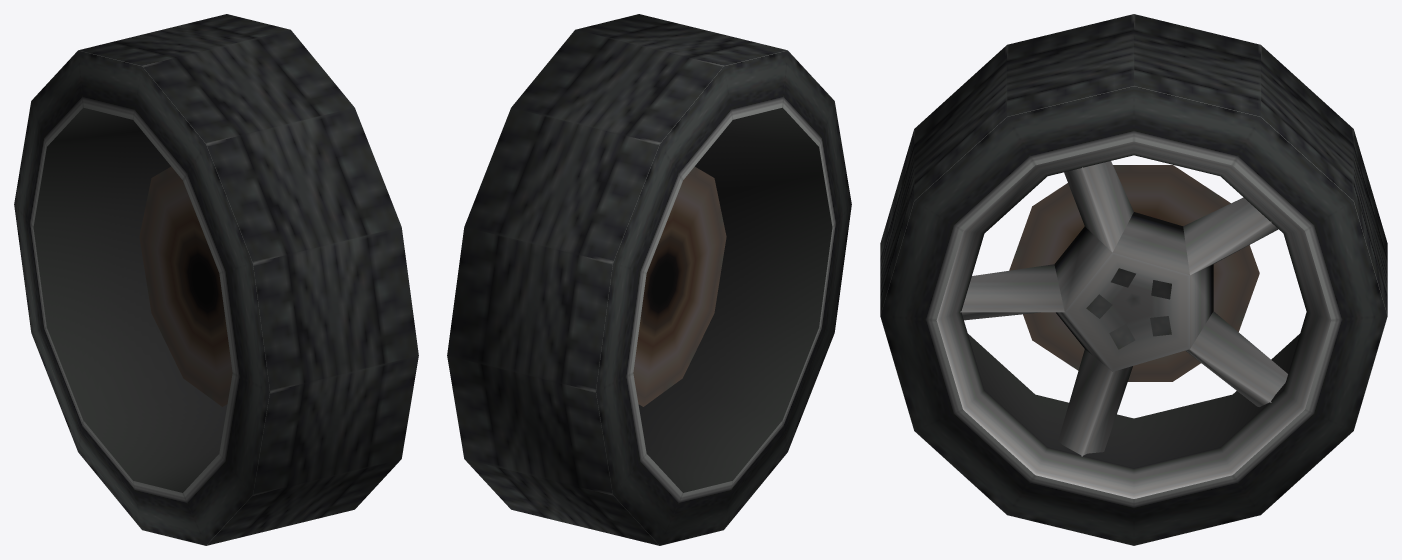
Rendered from DefaultWheel_turismo.glb.
The picture shows the model from 3 angles, left to right: view 1: azimuth 30°, elevation 25°; view 2: azimuth 150°, elevation 25°; view 3: azimuth 270°, elevation 25°; orthographic projection.
Parts seen in each view (by area): view 1: wheel; view 2: wheel; view 3: wheel.
Part boxes in pixels (x1,y1,x2,y2): wheel: (14, 14, 418, 545); wheel: (447, 14, 851, 545); wheel: (880, 14, 1387, 545).
Size of the model in its own units: 0.2495 by 0.6636 by 0.6636.
2 materials, 2 textured.
